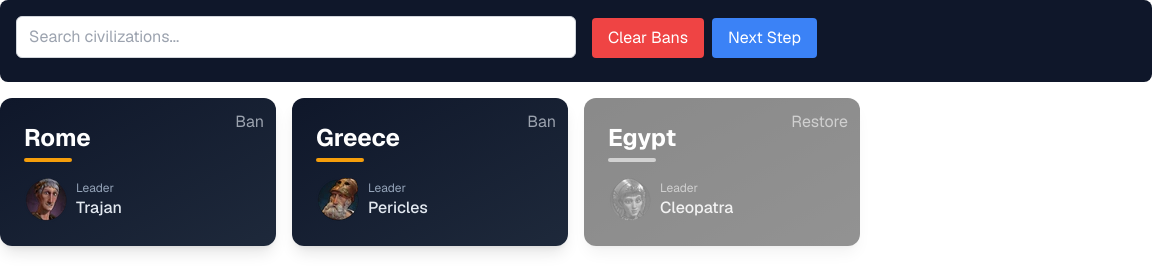
it: CivList › should clear all bans when Clear Bans button is clicked
Click the button "Clear Bans" at (648, 38), box [592, 18, 704, 58]
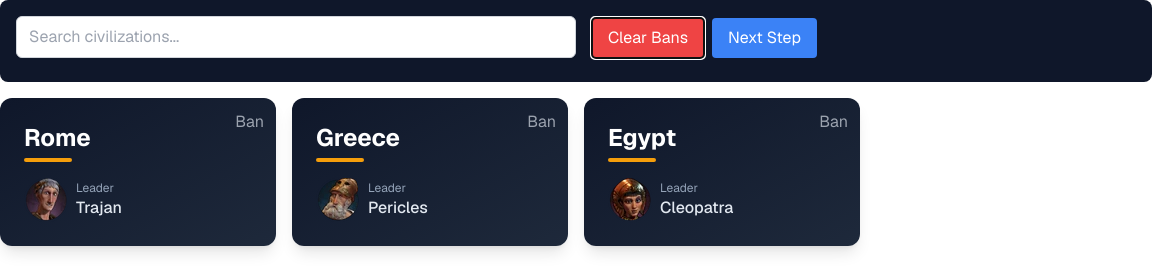
Check: no buttons "Restore" are shown
